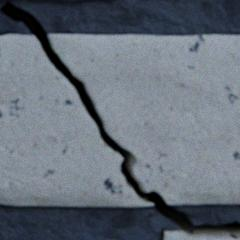brick: (0, 238, 44, 239), (46, 238, 74, 239), (58, 0, 79, 1)
broken_brick: (48, 34, 239, 203), (0, 34, 151, 205), (163, 230, 239, 239)
crack: (0, 1, 239, 237)
